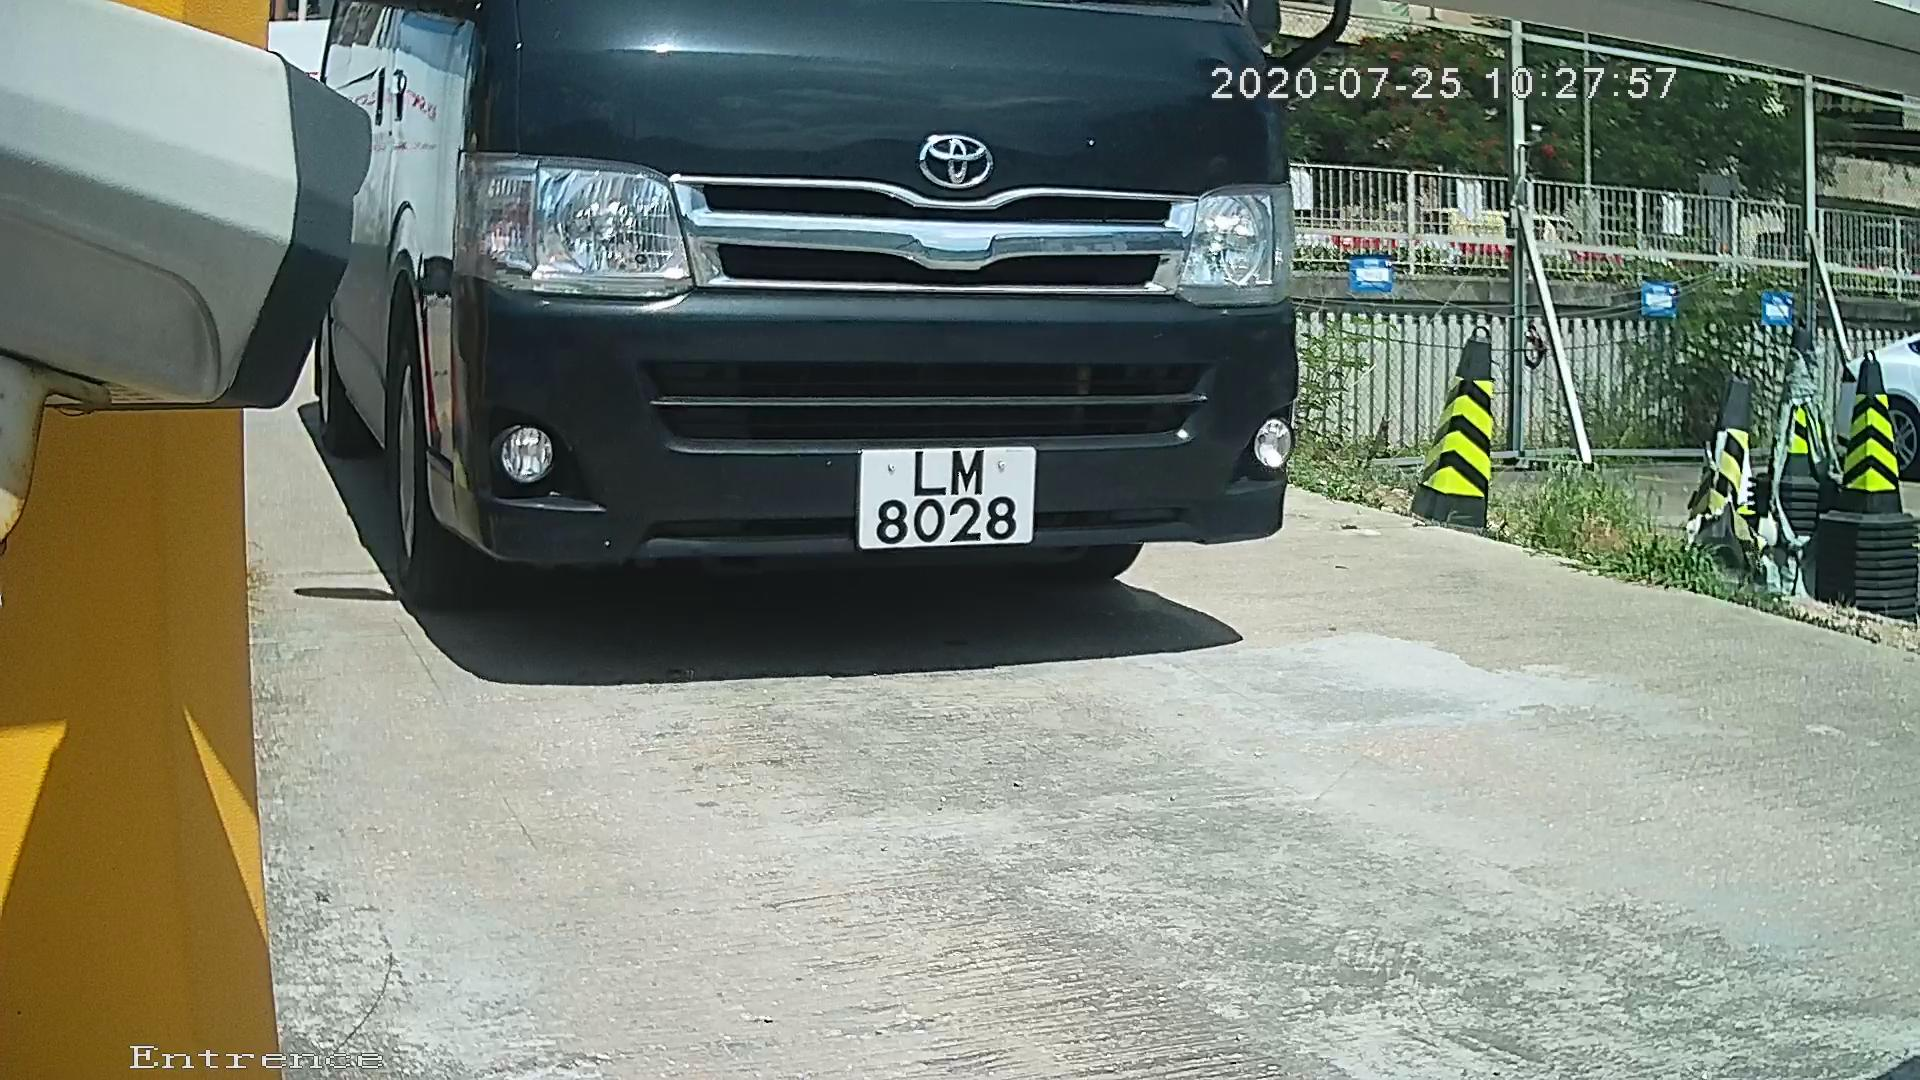Car: (103, 5, 1458, 695)
License Plate: (841, 444, 1046, 560)
